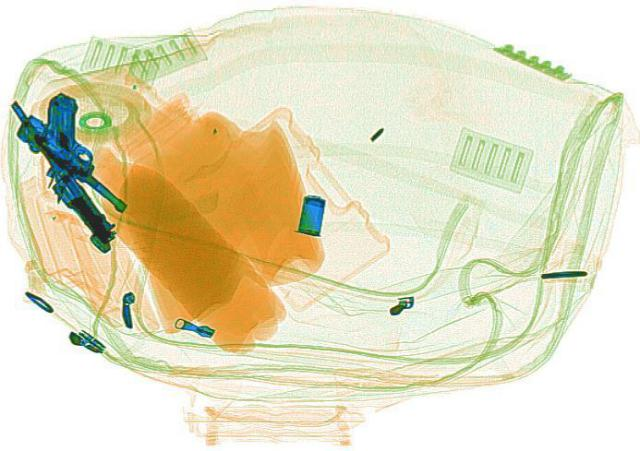Gun: (12, 90, 122, 259), (17, 87, 125, 217)
